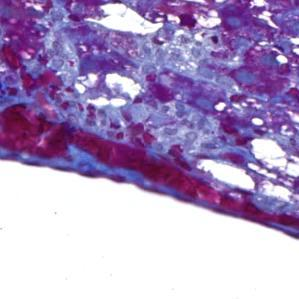ballooning: (73, 66, 147, 113)
